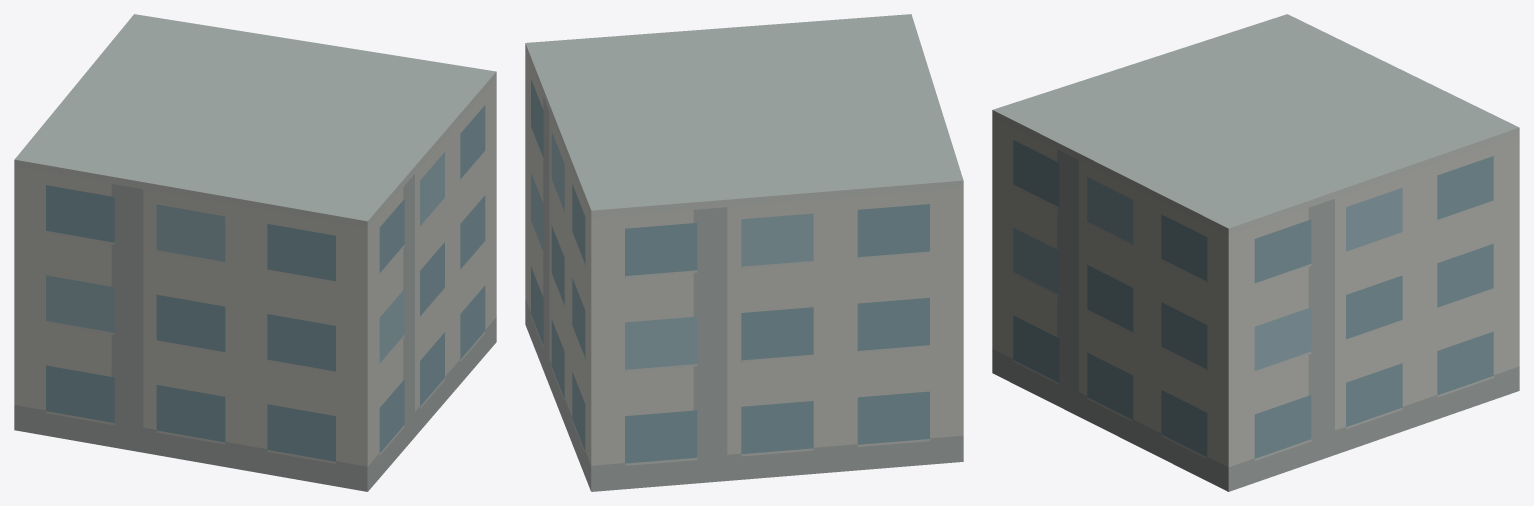
The model's file is survey-upis-32644336.glb.
The picture shows the model from 3 angles, left to right: view 1: azimuth 30°, elevation 25°; view 2: azimuth 150°, elevation 25°; view 3: azimuth 270°, elevation 25°; orthographic projection. The views are drawn at different scales.
Visible parts, largest first — view 1: survey-upis-32644336.tmp; view 2: survey-upis-32644336.tmp; view 3: survey-upis-32644336.tmp.
Boxes of the visible parts, x1,y1,x2,y2 form: survey-upis-32644336.tmp: [14, 14, 496, 491]; survey-upis-32644336.tmp: [525, 14, 963, 491]; survey-upis-32644336.tmp: [992, 14, 1519, 491].
Size of the model in its own units: 16 by 9.15 by 16.61.
